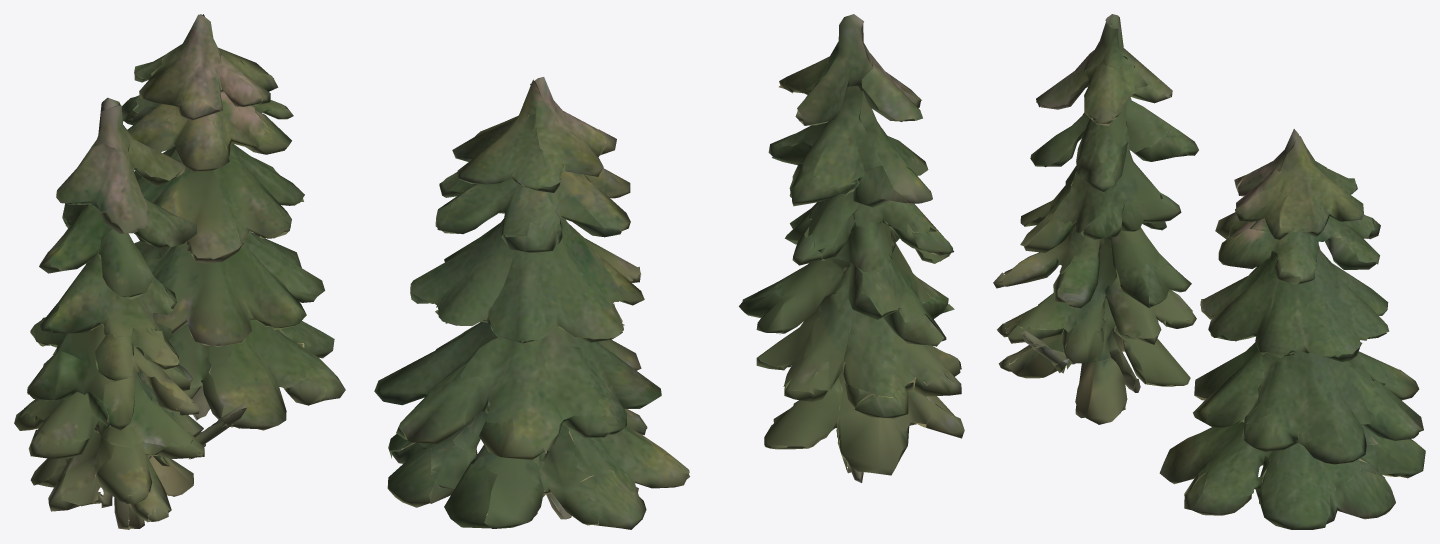
The model's file is conifer_pair_01_lod0.glb.
3 views of the same model, side by side, from view 1: azimuth 30°, elevation 25°; view 2: azimuth 150°, elevation 25°; view 3: azimuth 270°, elevation 25° (orthographic). The views are drawn at different scales.
Visible parts, largest first — view 1: candidate_008_lod0; view 2: candidate_008_lod0; view 3: candidate_008_lod0.
Part boxes in pixels (x1,y1,x2,y2): candidate_008_lod0: (14,14,345,529); candidate_008_lod0: (374,14,964,529); candidate_008_lod0: (993,14,1425,529).
Size of the model in its own units: 0.1734 by 0.1735 by 0.1697.
1 material, 1 textured.
